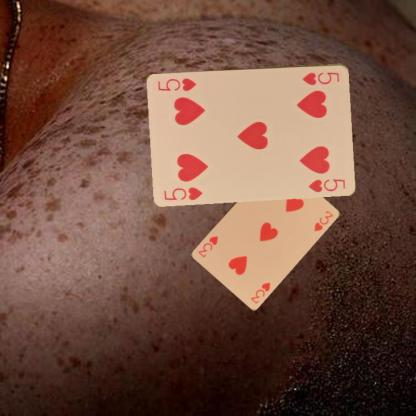3h: (248, 280, 271, 304)
5h: (161, 184, 204, 202), (300, 69, 341, 86)
